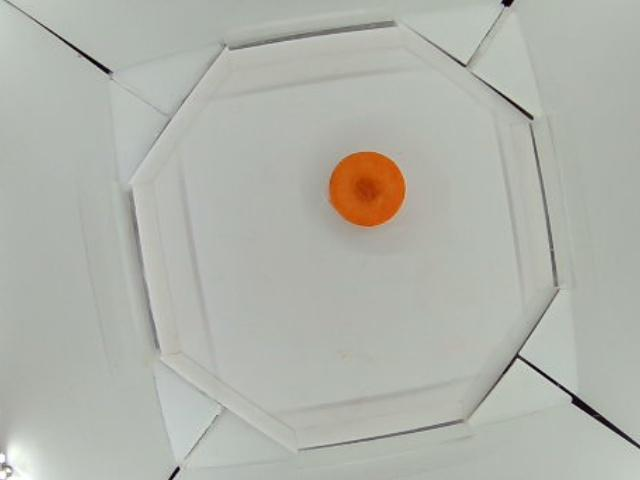Carrot: (329, 151, 406, 228)
